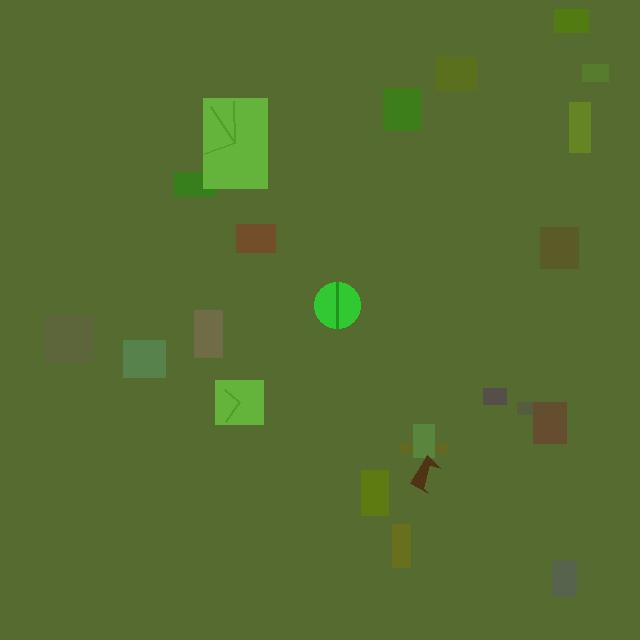disease: (389, 454, 441, 494)
healthy_crop: (314, 281, 361, 328)
weed: (203, 98, 268, 189), (215, 380, 263, 424)
